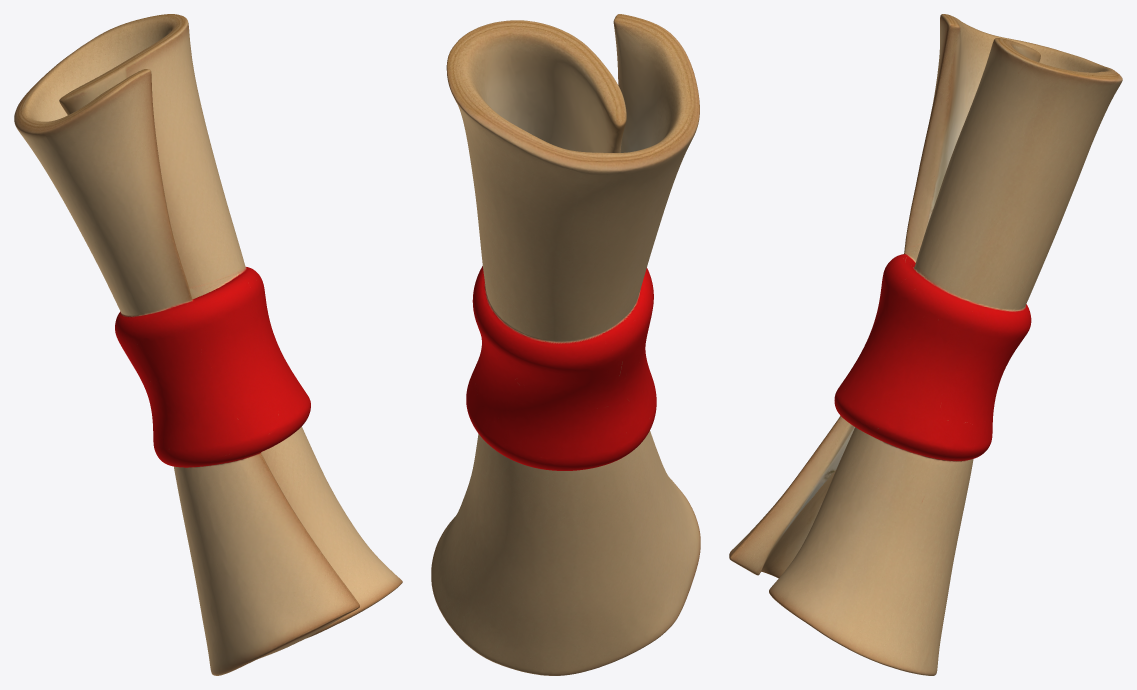
File: scroll.glb
3 renders of one model, left to right at view 1: azimuth 30°, elevation 25°; view 2: azimuth 150°, elevation 25°; view 3: azimuth 270°, elevation 25°, orthographic. The views are drawn at different scales.
Bounding box in the file's own units: 0.9638 × 1.9 × 1.13.
Materials: 1 (1 with a texture image).
